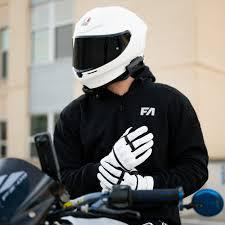Helmet: (73, 8, 146, 87)
